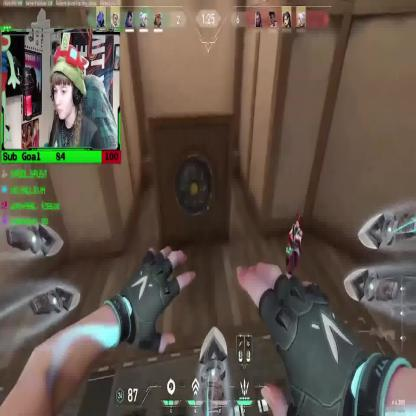enemy: (282, 213, 303, 285)
enemy_head: (296, 216, 301, 230)
